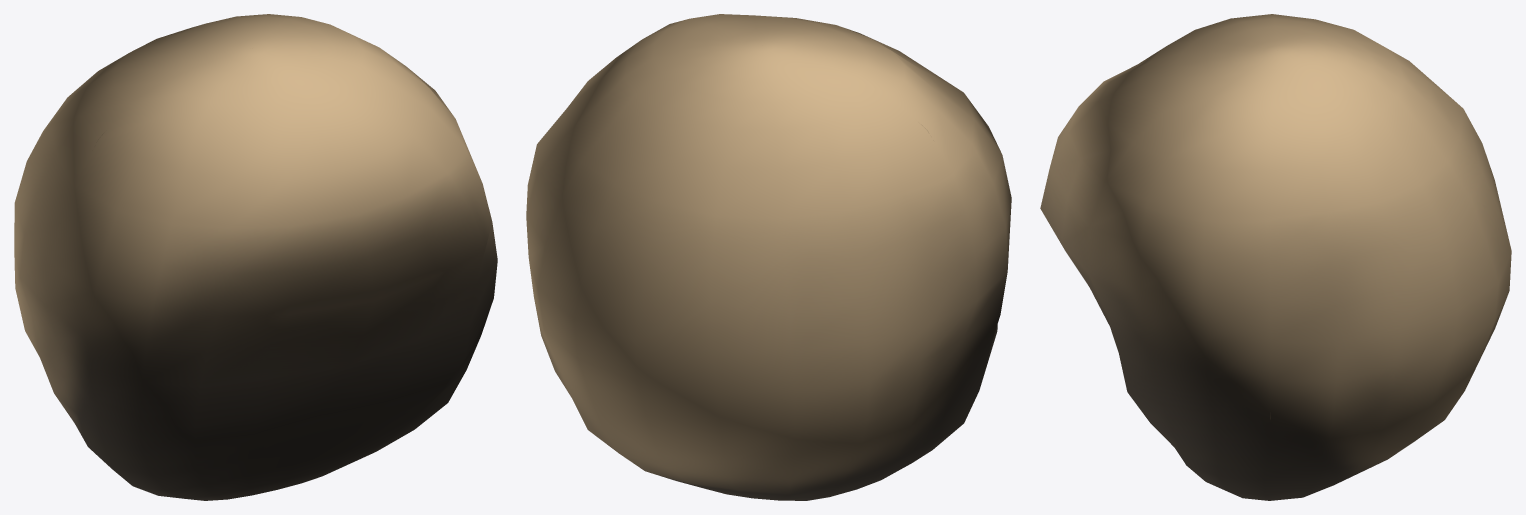
The model's file is Hair_4.fbx.
The picture shows the model from 3 angles, left to right: view 1: azimuth 30°, elevation 25°; view 2: azimuth 150°, elevation 25°; view 3: azimuth 270°, elevation 25°; orthographic projection. The views are drawn at different scales.
Parts seen in each view (by area): view 1: Hair_4; view 2: Hair_4; view 3: Hair_4.
Boxes of the visible parts, x1,y1,x2,y2 form: Hair_4: [14, 14, 497, 500]; Hair_4: [526, 14, 1011, 500]; Hair_4: [1040, 14, 1511, 500].
Size of the model in its own units: 33.52 by 34.15 by 34.39.
Materials: 1 (1 with a texture image).
